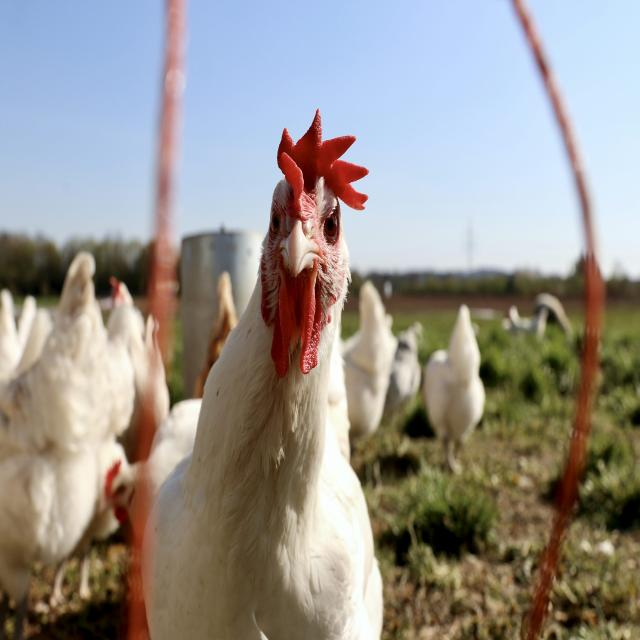Chicken: (139, 121, 402, 640)
